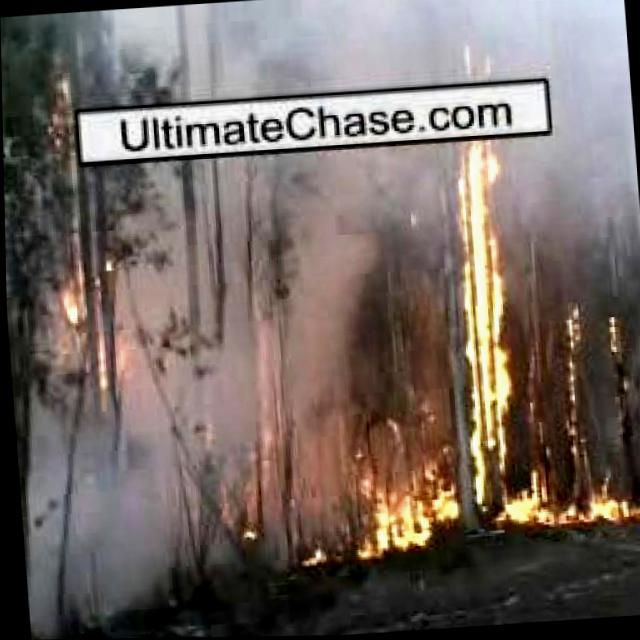Fire: (449, 140, 538, 540), (327, 461, 461, 556), (530, 471, 640, 535), (229, 419, 275, 545), (54, 258, 114, 346)
Smoke: (128, 139, 470, 459), (95, 0, 629, 100), (10, 374, 205, 640)
